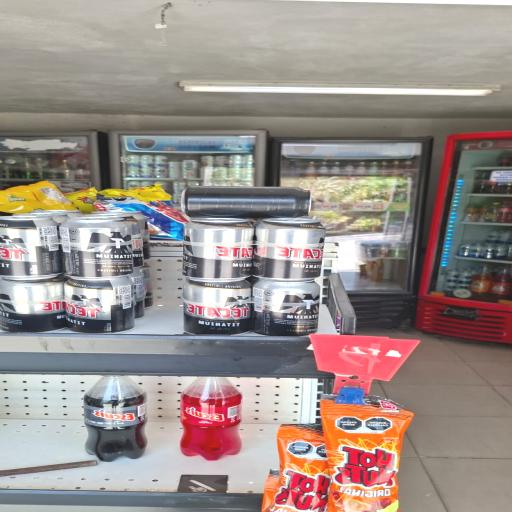LATA: (144, 183, 346, 220)
